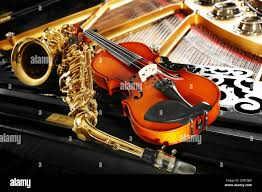Saxophone: (1, 1, 216, 173)
Violin: (77, 22, 228, 155)
